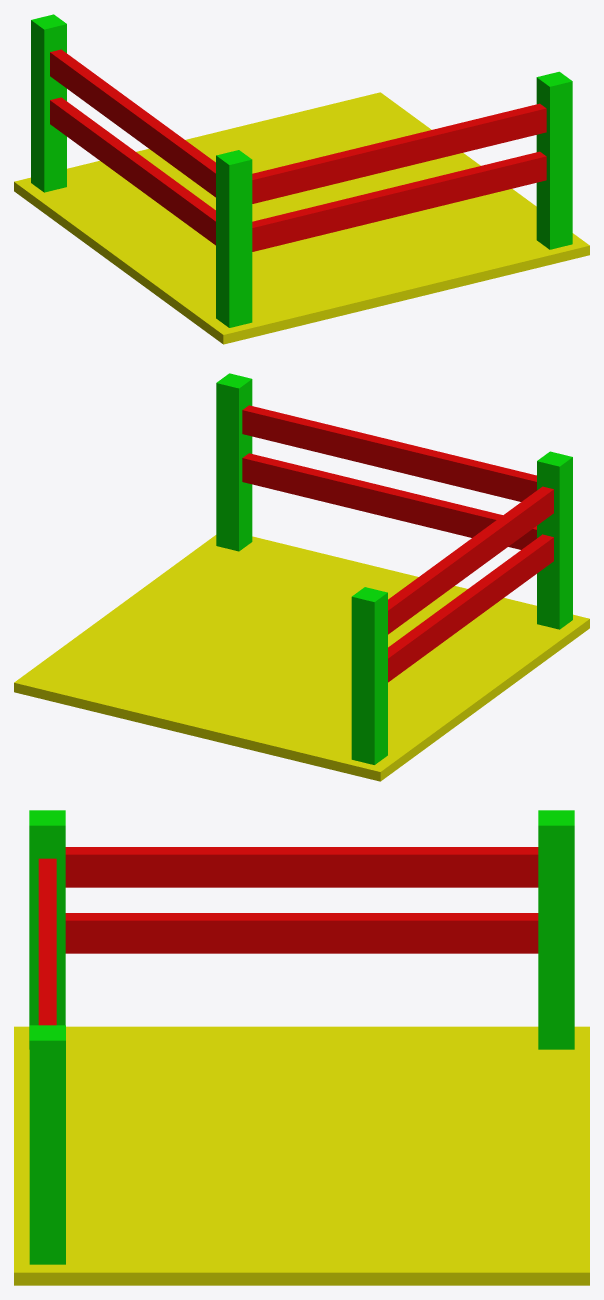
File: WalkwayH_SM.fbx
The picture shows the model from 3 angles, top to bottom: view 1: azimuth 30°, elevation 25°; view 2: azimuth 150°, elevation 25°; view 3: azimuth 270°, elevation 25°; orthographic projection. The views are drawn at different scales.
Parts seen in each view (by area): view 1: polySurface39; view 2: polySurface39; view 3: polySurface39.
Boxes of the visible parts, bbox=[...] form: polySurface39: bbox=[14, 14, 589, 344]; polySurface39: bbox=[14, 373, 589, 781]; polySurface39: bbox=[14, 810, 589, 1285].
Size of the model in its own units: 8 by 3.6 by 7.92.
